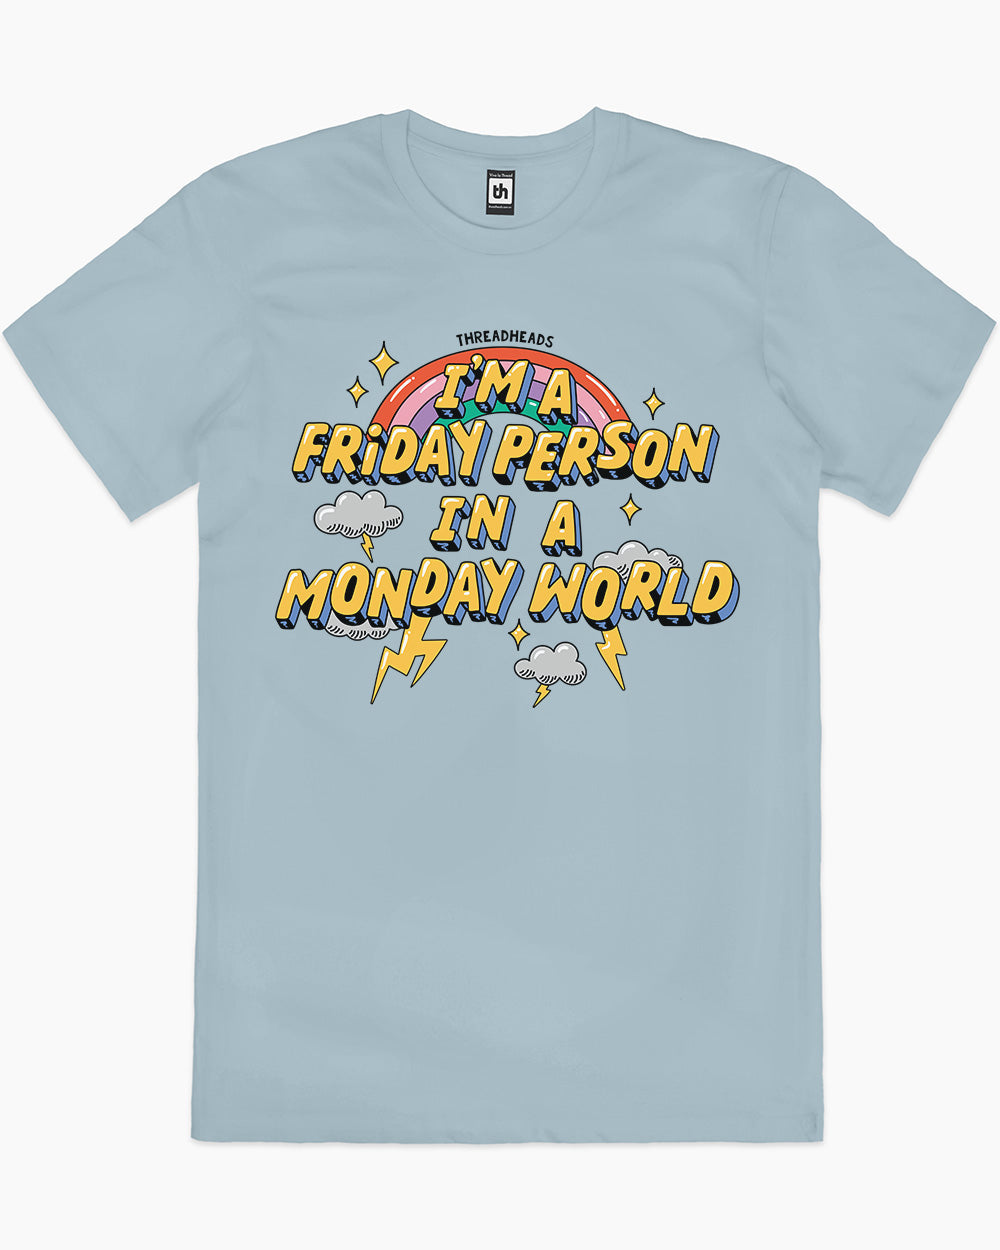design: (269, 321, 746, 717)
